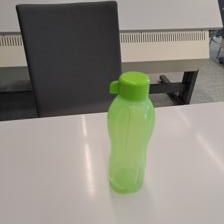bottle: (103, 70, 158, 195)
